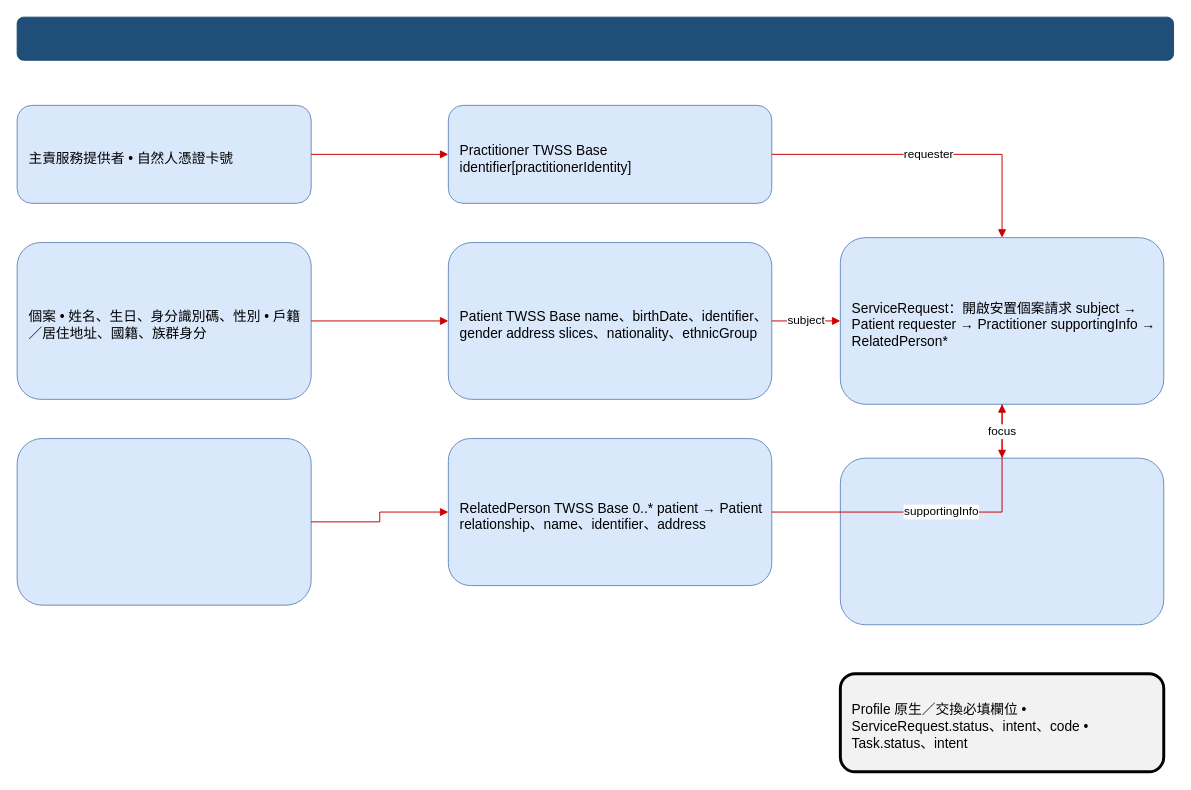
This 1191x790 diagram has some shape labels left out. The centre of each missing label's shape, as x and y in pixels:
"Task：安置端受理 focus → ServiceRequest businessStatus：受理／退回／不受理 output：結果、原因、安置端案件編號" belongs at pixel 1001 541.
"個案關係人 0..* • 姓名、性別、生日、身分識別碼 • 戶籍地址、國籍 • relationship：父、母或其他關係" belongs at pixel 163 521.
"脆家 → 安置：開啟安置個案（視覺化邏輯模型草稿）" belongs at pixel 595 38.
